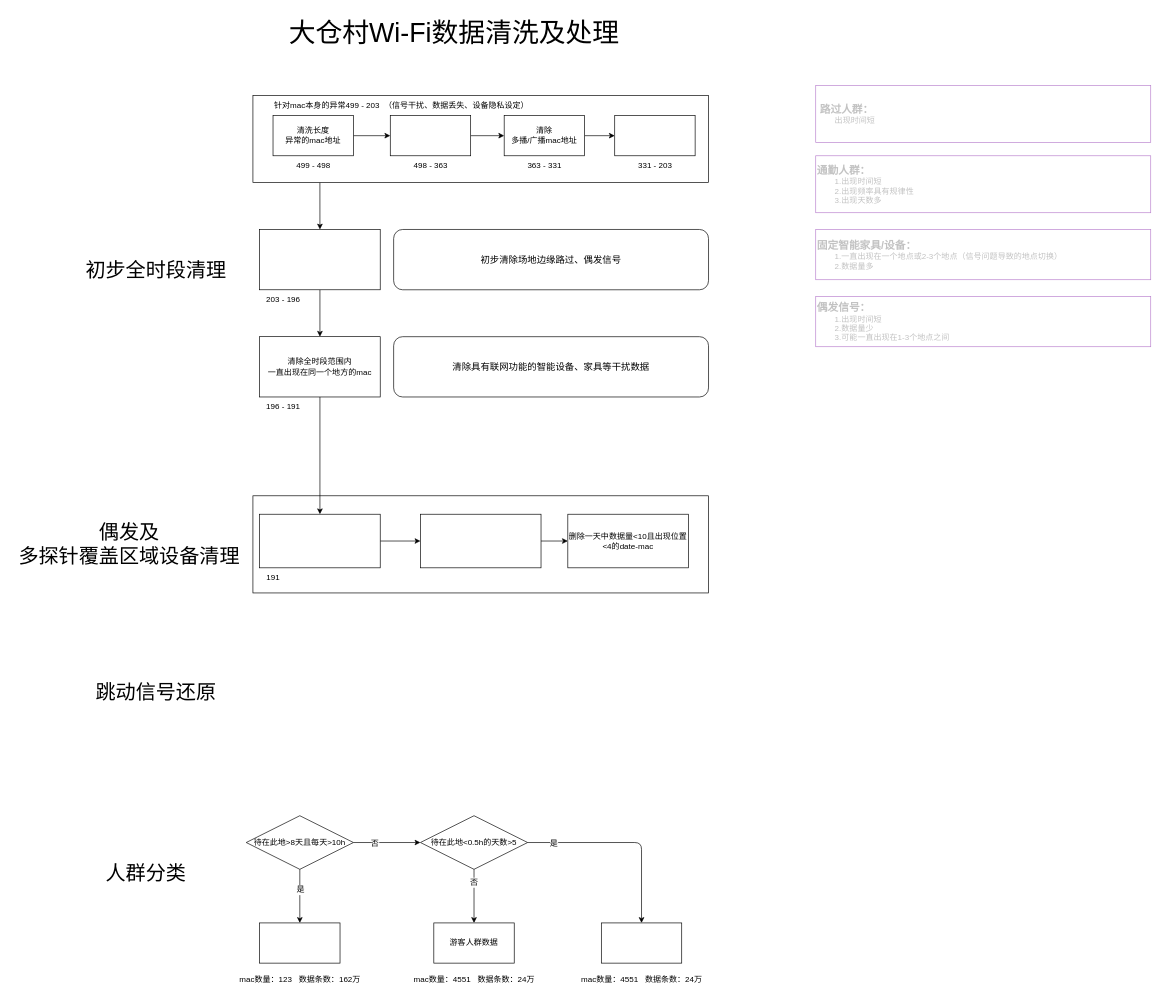
The diagram is 1162 pixels wide and 1001 high, and some of its shapes have lost their labels. The shapes that lost their labels are listed below. From the top down, each one's centre as x and y in pixels, then its label:
At [430,135]: "清洗数值不正确 （包含0） 的mac地址".
At [654,135]: "清除 伪mac地址".
At [319,259]: "清除全时段范围内 只出现过一次的mac".
At [319,541]: "将mac按照日期打上标签： date-mac （ 28,54,187,20,163,246/ 7.5-28,54,187,20,163,246）".
At [480,541]: "删除只出现过一次的date-mac".
At [299,942]: "常驻人群数据".
At [641,942]: "通勤人群数据".
